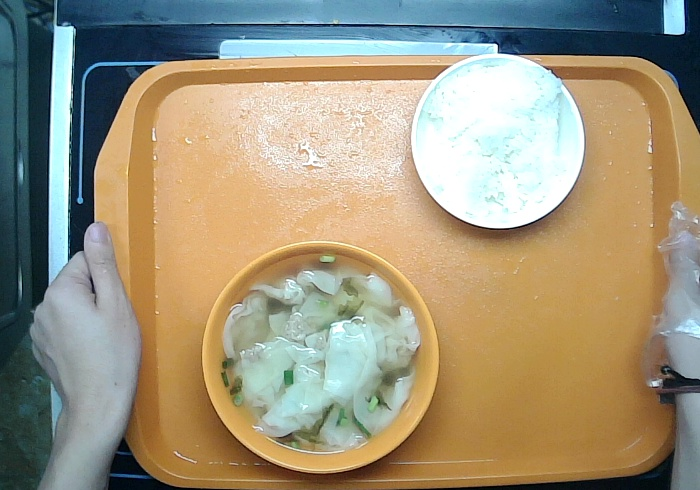NLDX-Fan_Wan: (408, 52, 586, 230)
NLDX-Hun_Tun_Wan: (199, 237, 440, 474)
